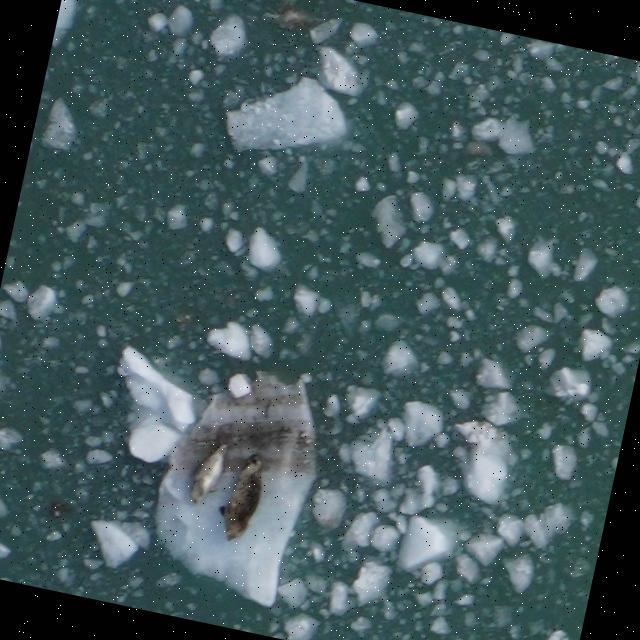seal: (209, 445, 270, 547), (182, 432, 236, 511)
